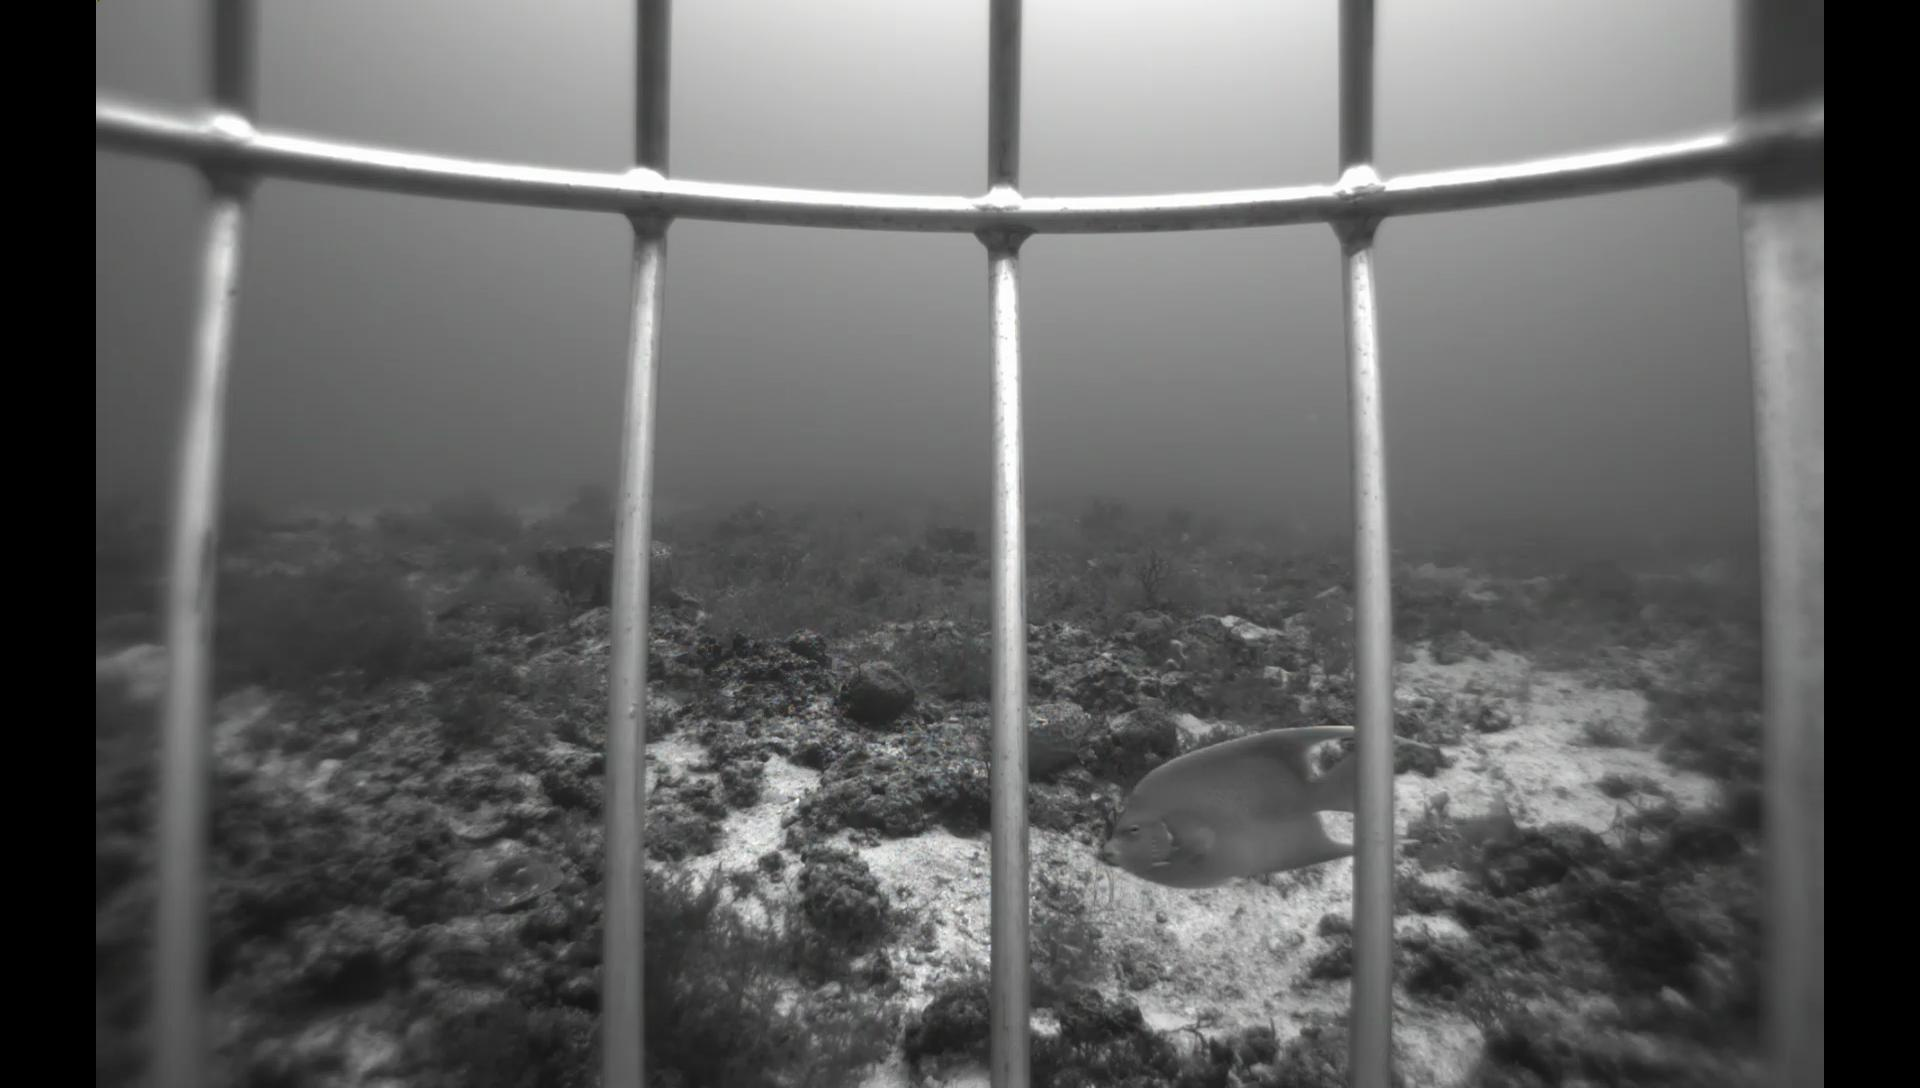HOLACANTHUSBERMUDENSIS-170290102: (1080, 711, 1441, 903), (1684, 549, 1755, 599)
SERRANUSANNULARIS-170024201: (418, 934, 512, 982)
